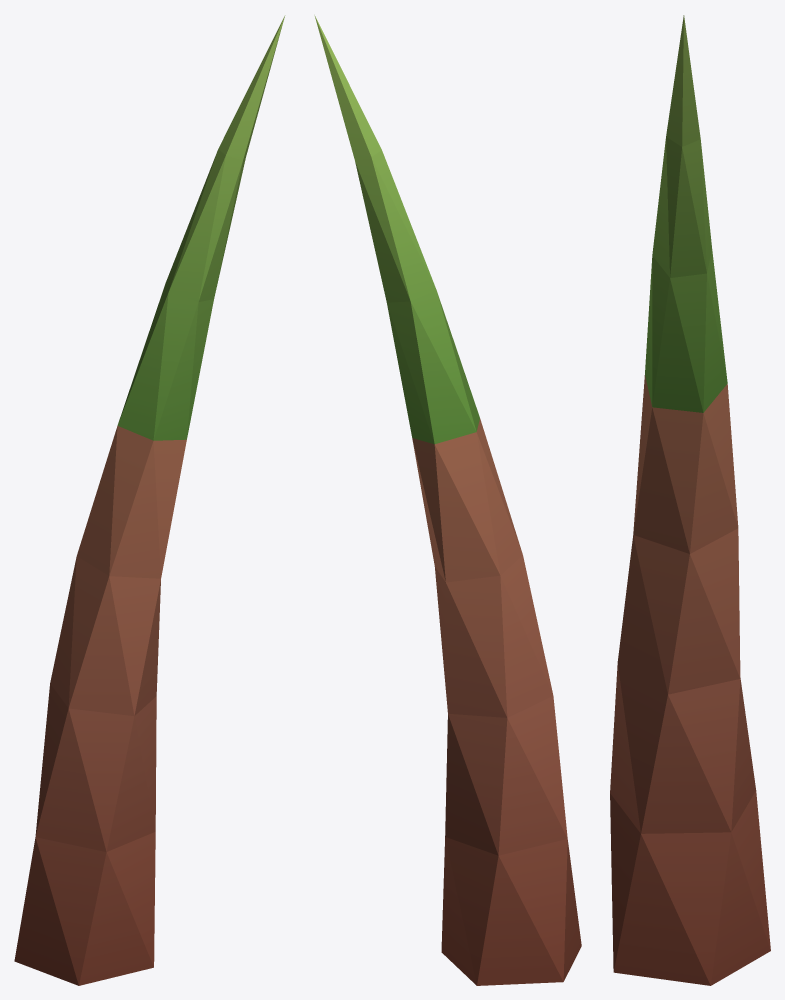
The model's file is root_tendril.glb.
3 renders of one model, left to right at view 1: azimuth 30°, elevation 25°; view 2: azimuth 150°, elevation 25°; view 3: azimuth 270°, elevation 25°, orthographic. The views are drawn at different scales.
Visible parts, largest first — view 1: root_tendril; view 2: root_tendril; view 3: root_tendril.
Boxes of the visible parts, left/top/right/bottom form: root_tendril: left=14, top=15, right=285, bottom=985; root_tendril: left=314, top=15, right=581, bottom=985; root_tendril: left=610, top=15, right=770, bottom=985.
Size of the model in its own units: 0.3656 by 1.2 by 0.1665.
1 material, 1 textured.
